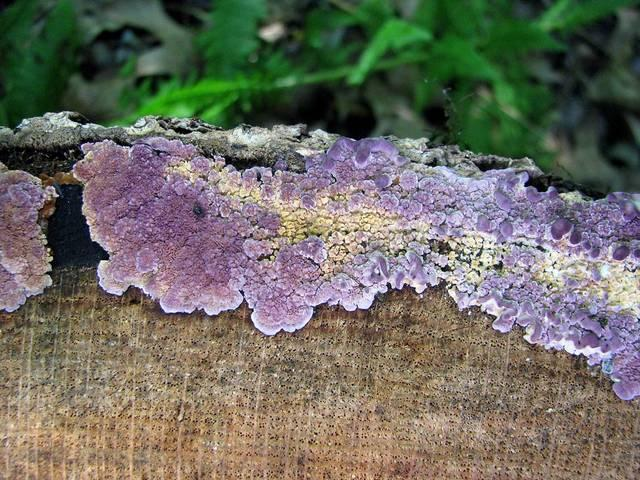Non-edible Mushroom: (0, 100, 640, 437)
